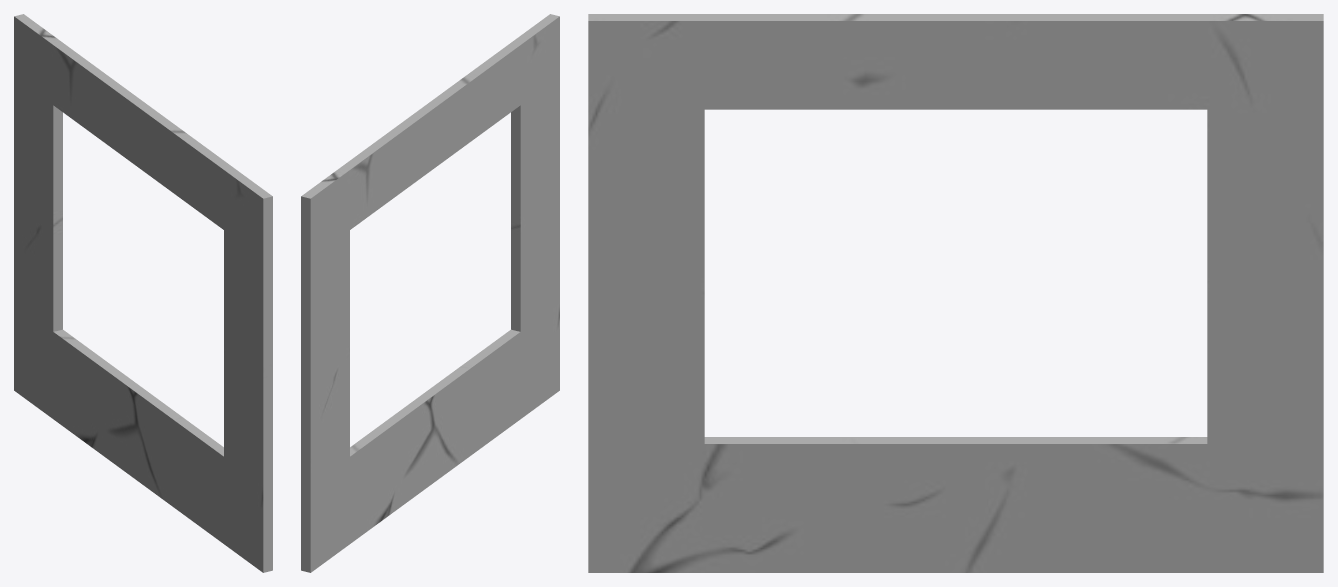
File: duvar1.fbx
3 views of the same model, side by side, from view 1: azimuth 30°, elevation 25°; view 2: azimuth 150°, elevation 25°; view 3: azimuth 270°, elevation 25° (orthographic). The views are drawn at different scales.
Visible parts, largest first — view 1: Cube_8.002; view 2: Cube_8.002; view 3: Cube_8.002.
Part boxes in pixels (<box>): Cube_8.002: <box>14,14,272,572</box>; Cube_8.002: <box>301,14,559,572</box>; Cube_8.002: <box>588,14,1323,572</box>.
Size of the model in its own units: 11.88 by 442 by 534.
